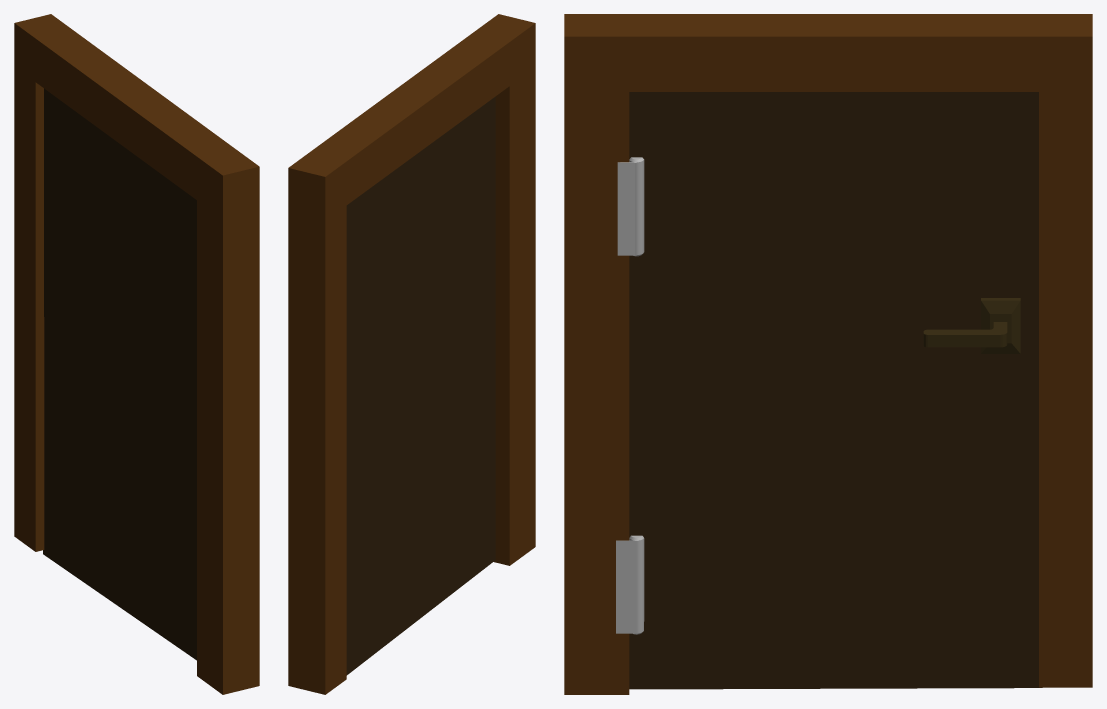
The model's file is Door.fbx.
3 views of the same model, side by side, from view 1: azimuth 30°, elevation 25°; view 2: azimuth 150°, elevation 25°; view 3: azimuth 270°, elevation 25° (orthographic). The views are drawn at different scales.
Visible parts, largest first — view 1: Door, Cube; view 2: Door, Cube; view 3: Door, Cube, Door Holder (Bottom), Door Holder (Top), Handle, Handle Holder.
Part boxes in pixels (<box>): Door: <box>43,88,196,660</box>; Cube: <box>14,14,259,694</box>; Door: <box>346,96,495,675</box>; Cube: <box>288,14,535,694</box>; Door: <box>629,92,1042,689</box>; Cube: <box>564,14,1092,694</box>; Door Holder (Bottom): <box>616,535,644,634</box>; Door Holder (Top): <box>617,157,644,256</box>; Handle: <box>923,322,1007,347</box>; Handle Holder: <box>981,298,1020,353</box>.
Size of the model in its own units: 92.06 by 796 by 579.
